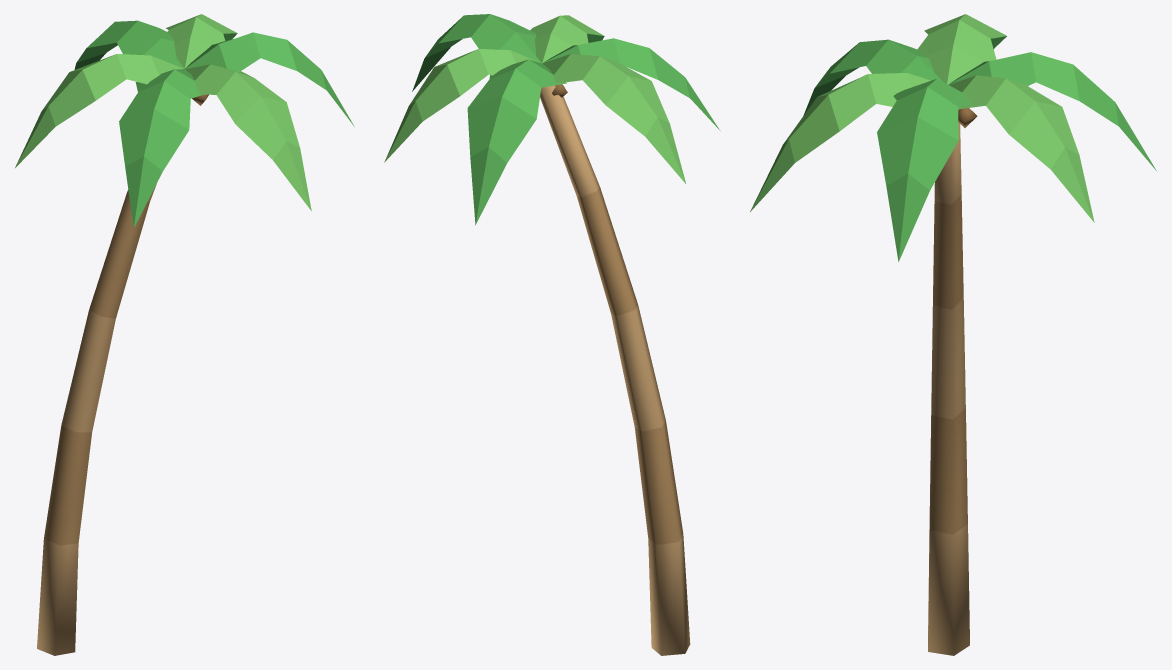
Rendered from palm.glb.
3 renders of one model, left to right at view 1: azimuth 30°, elevation 25°; view 2: azimuth 150°, elevation 25°; view 3: azimuth 270°, elevation 25°, orthographic. The views are drawn at different scales.
Parts seen in each view (by area): view 1: palm; view 2: palm; view 3: palm.
Boxes of the visible parts, x1=… form: palm: x1=15, y1=14, x2=354, y2=655; palm: x1=384, y1=14, x2=720, y2=655; palm: x1=750, y1=14, x2=1156, y2=655.
Bounding box in the file's own units: 5 × 9 × 5.
